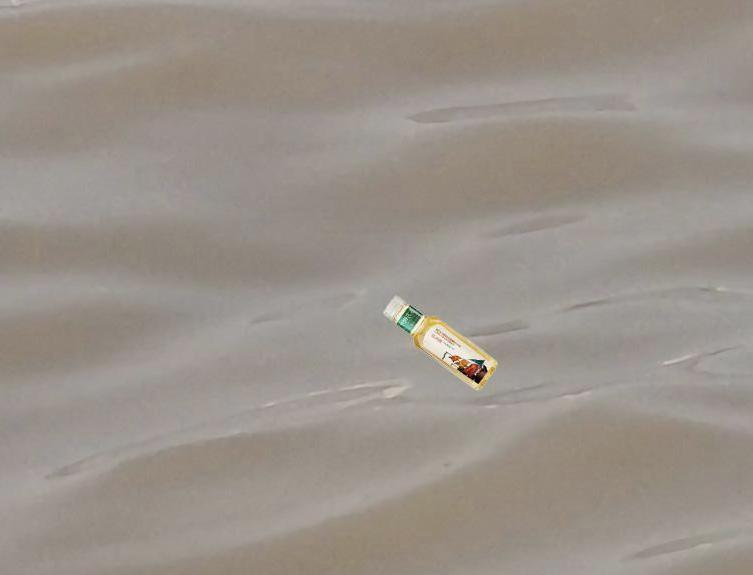Plastic: (379, 295, 498, 390)
